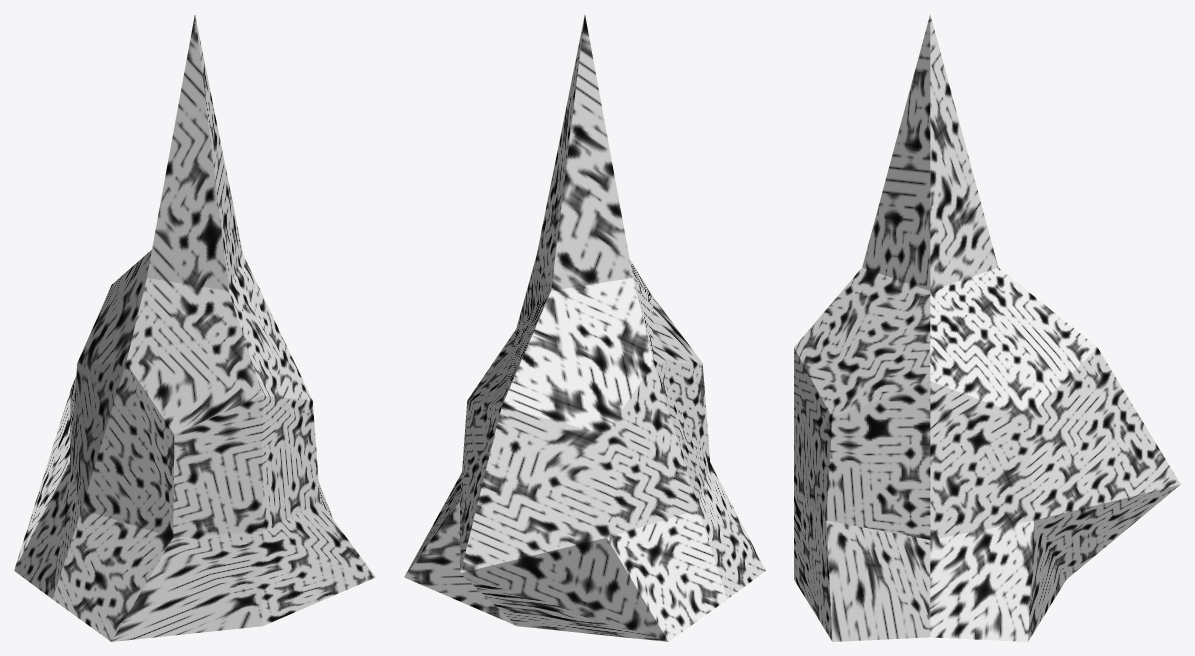
File: ship2.obj
The picture shows the model from 3 angles, left to right: view 1: azimuth 30°, elevation 25°; view 2: azimuth 150°, elevation 25°; view 3: azimuth 270°, elevation 25°; orthographic projection.
Parts seen in each view (by area): view 1: Ship2_Cube; view 2: Ship2_Cube; view 3: Ship2_Cube.
Boxes of the visible parts, x1,y1,x2,y2 form: Ship2_Cube: (14,15,375,641); Ship2_Cube: (404,15,765,641); Ship2_Cube: (794,14,1180,641).
Bounding box in the file's own units: 3.85 × 7.26 × 4.5.
